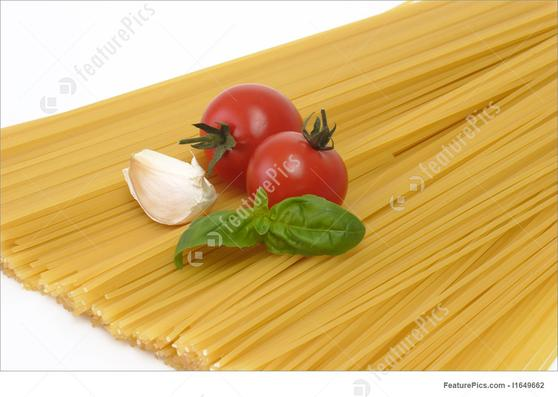tomato: (191, 84, 317, 182)
